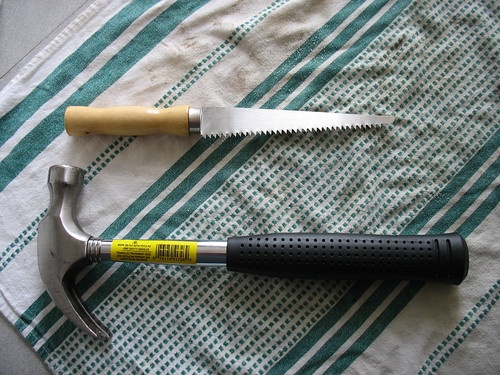hammer: (35, 163, 471, 344)
